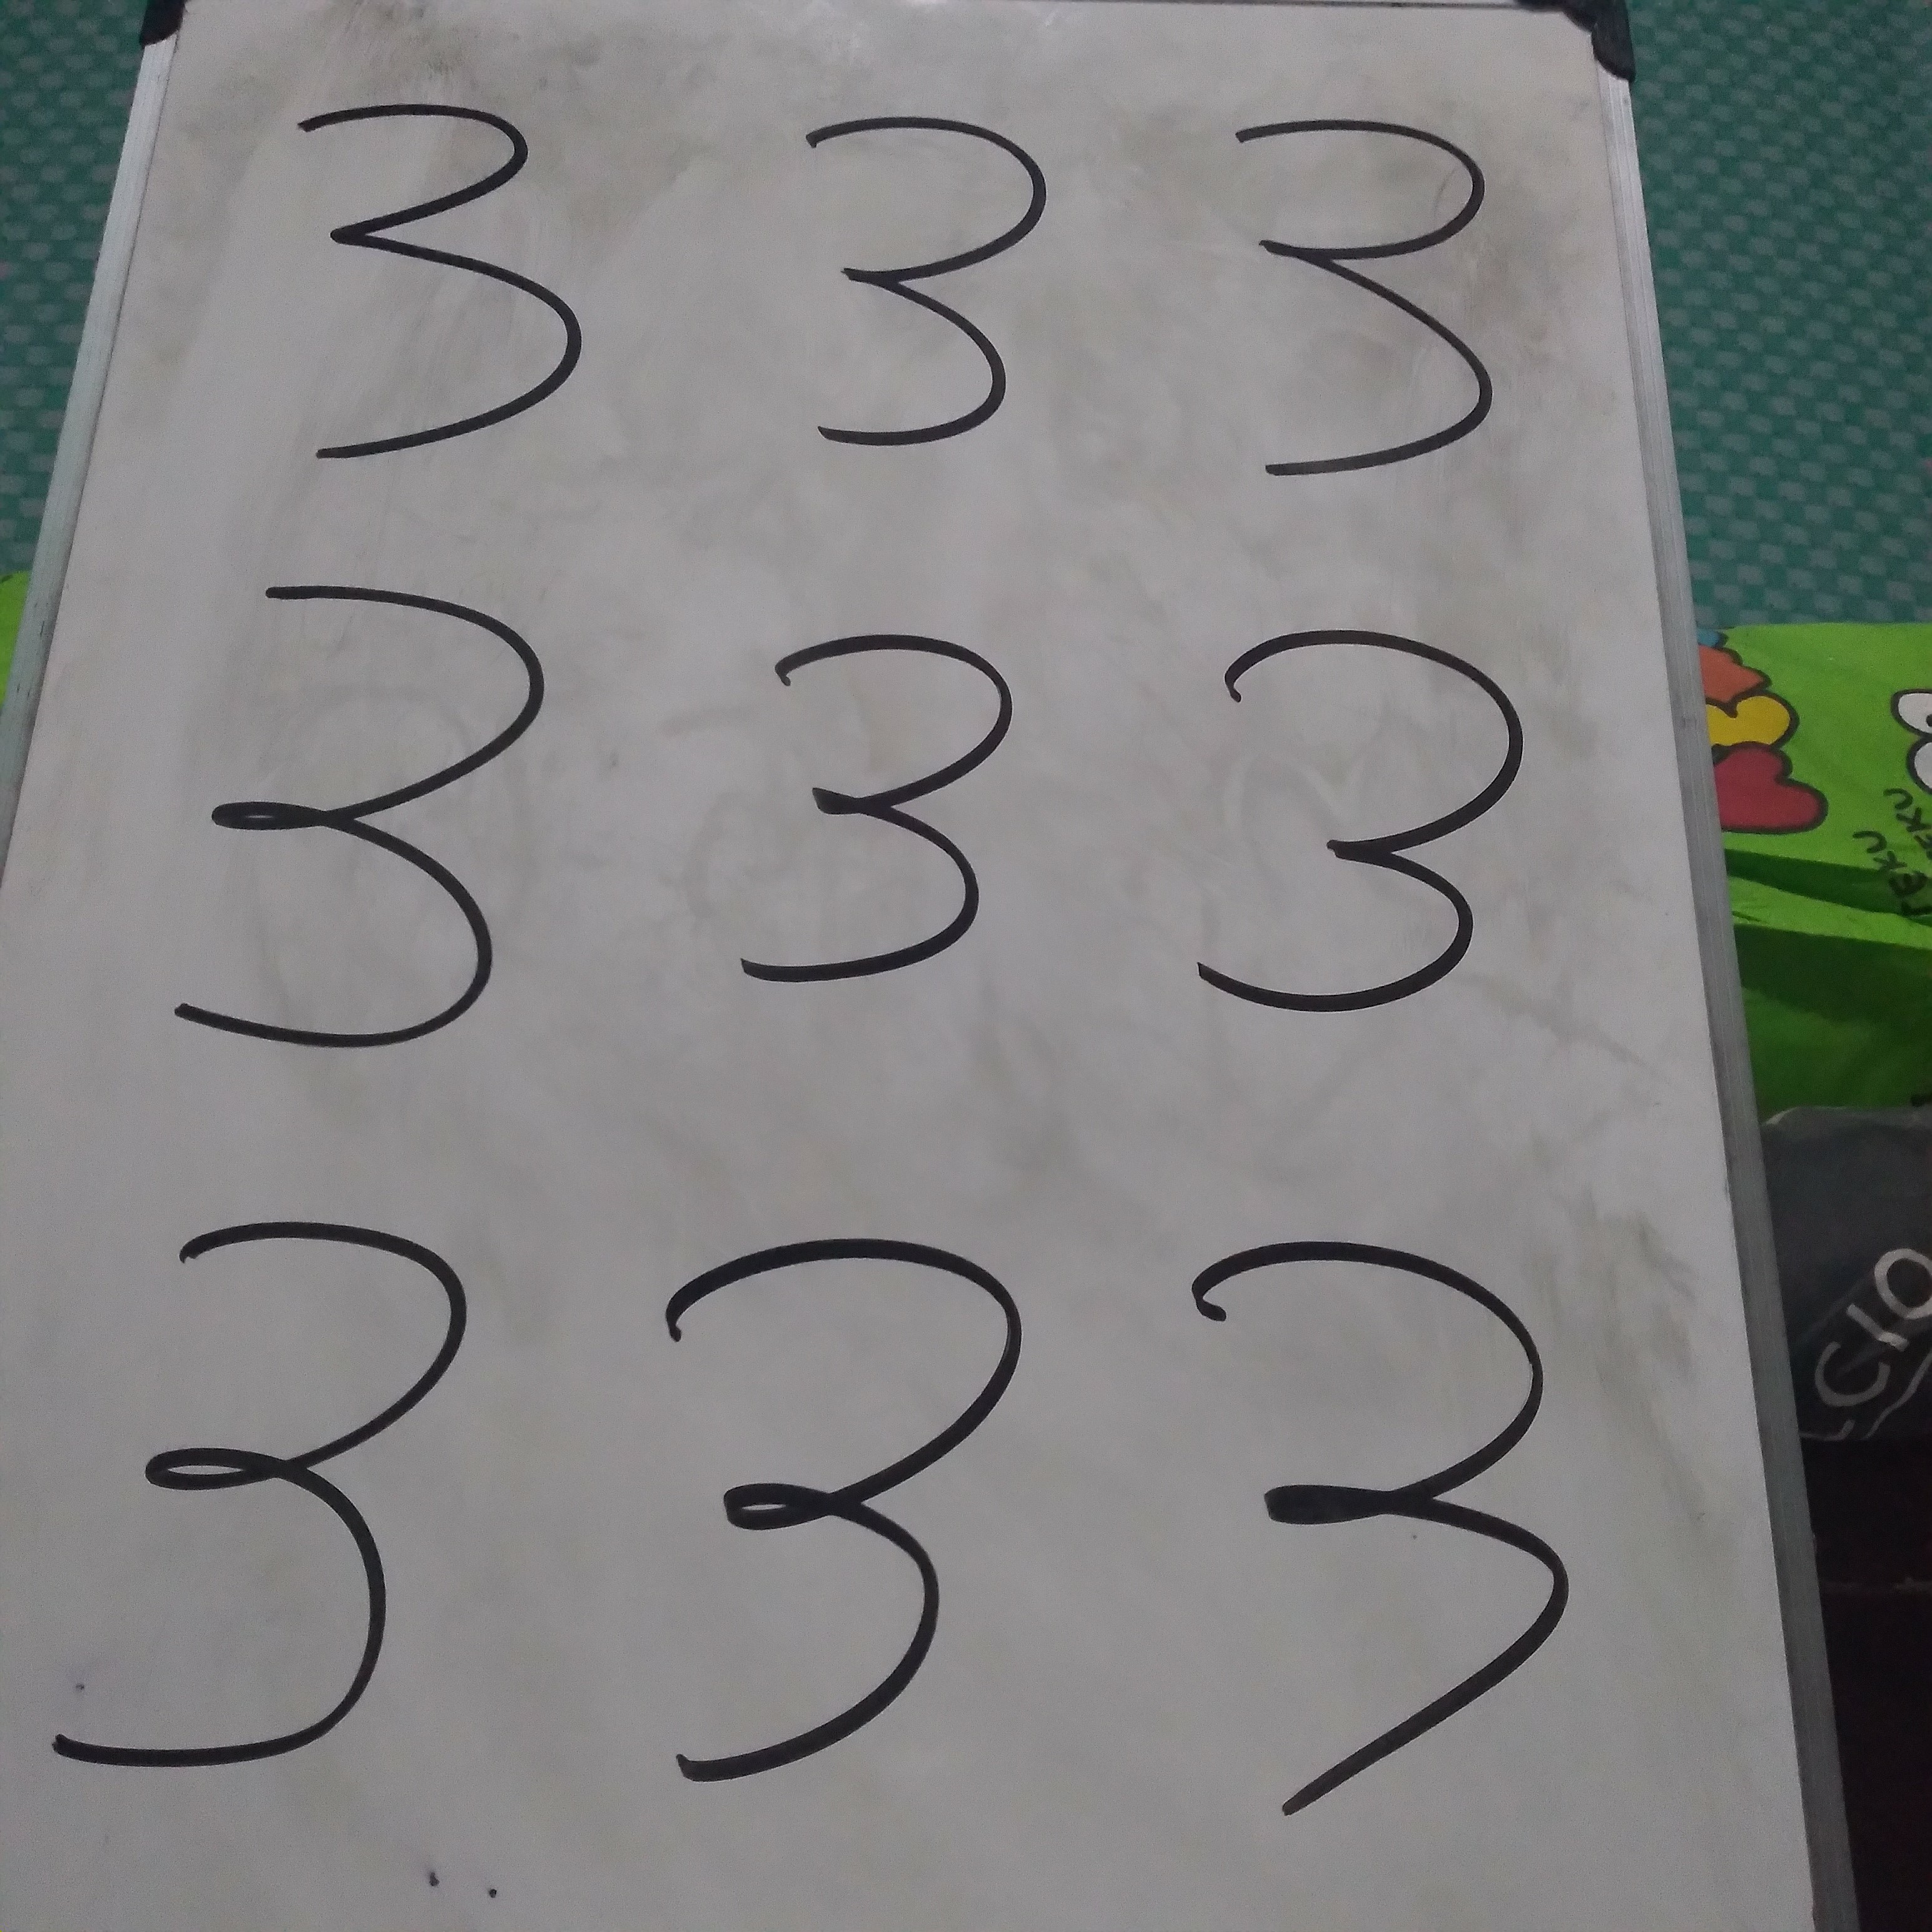num3: (619, 1216, 1055, 1825), (636, 517, 1072, 1127), (44, 1181, 480, 1791), (1146, 583, 1582, 1192), (1181, 1226, 1617, 1836), (154, 544, 590, 1154), (221, 59, 632, 516), (711, 47, 1121, 504), (1174, 64, 1584, 521)
